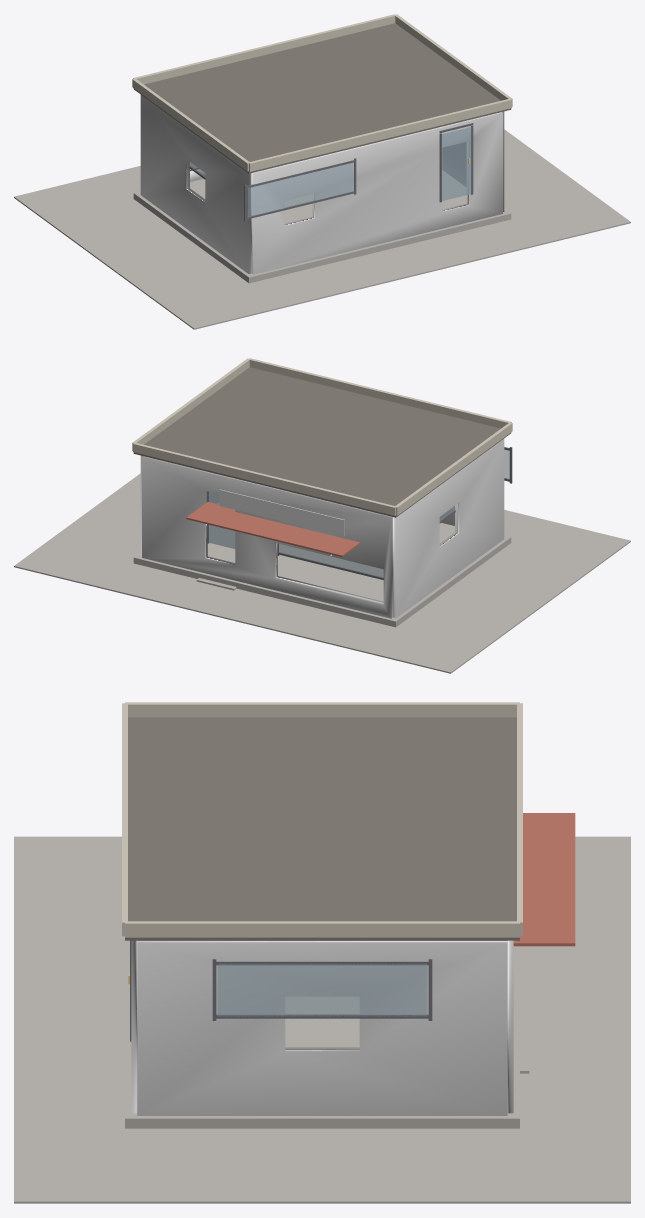
The model's file is corner_store.glb.
The picture shows the model from 3 angles, top to bottom: view 1: azimuth 30°, elevation 25°; view 2: azimuth 150°, elevation 25°; view 3: azimuth 270°, elevation 25°; orthographic projection. The views are drawn at different scales.
Parts seen in each view (by area): view 1: ground, roof, back_wall, left_wall, foundation, glass, parapet_back, parapet_front, door_glass, floor, parapet_left, parapet_right (+1 smaller); view 2: ground, roof, front_wall, left_wall, floor, foundation, awning, parapet_front, parapet_back, sign_panel, parapet_left, parapet_right (+2 smaller); view 3: ground, roof, right_wall, glass, foundation, awning, parapet_right, parapet_left, floor, parapet_front, parapet_back, front_wall (+3 smaller).
Boxes of the visible parts, x1=… form: ground: x1=14, y1=129, x2=630, y2=329; roof: x1=133, y1=23, x2=511, y2=173; back_wall: x1=251, y1=112, x2=502, y2=274; left_wall: x1=140, y1=95, x2=251, y2=273; foundation: x1=133, y1=191, x2=511, y2=283; glass: x1=247, y1=163, x2=353, y2=216; parapet_back: x1=248, y1=98, x2=511, y2=171; parapet_front: x1=133, y1=14, x2=396, y2=84; door_glass: x1=442, y1=127, x2=471, y2=200; floor: x1=190, y1=170, x2=466, y2=223; parapet_left: x1=132, y1=78, x2=250, y2=171; parapet_right: x1=395, y1=14, x2=512, y2=106; ground: x1=14, y1=473, x2=630, y2=673; roof: x1=133, y1=367, x2=511, y2=517; front_wall: x1=142, y1=456, x2=393, y2=618; left_wall: x1=393, y1=439, x2=504, y2=617; floor: x1=208, y1=502, x2=454, y2=601; foundation: x1=133, y1=535, x2=511, y2=627; awning: x1=186, y1=502, x2=360, y2=556; parapet_front: x1=133, y1=442, x2=395, y2=515; parapet_back: x1=248, y1=358, x2=511, y2=428; sign_panel: x1=219, y1=489, x2=344, y2=536; parapet_left: x1=395, y1=422, x2=512, y2=515; parapet_right: x1=132, y1=358, x2=249, y2=450; ground: x1=14, y1=836, x2=630, y2=1203; roof: x1=125, y1=717, x2=519, y2=940; right_wall: x1=137, y1=941, x2=507, y2=1115; glass: x1=217, y1=963, x2=427, y2=1016; foundation: x1=125, y1=940, x2=519, y2=1128; awning: x1=513, y1=813, x2=575, y2=946; parapet_right: x1=125, y1=921, x2=519, y2=937; parapet_left: x1=125, y1=702, x2=519, y2=717; floor: x1=285, y1=996, x2=359, y2=1047; parapet_front: x1=517, y1=703, x2=522, y2=936; parapet_back: x1=122, y1=703, x2=127, y2=936; front_wall: x1=507, y1=940, x2=513, y2=1113.
Size of the model in its own units: 14 by 3.72 by 10.
